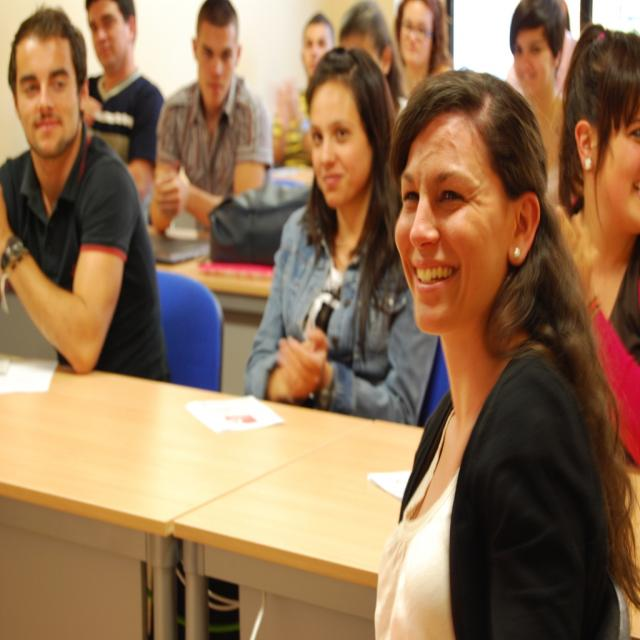chair: (156, 268, 224, 392)
desk: (4, 364, 406, 634)
person: (370, 66, 630, 637), (243, 47, 439, 424), (0, 6, 171, 381), (148, 0, 273, 236), (82, 0, 164, 203), (507, 0, 577, 211), (270, 14, 336, 168), (338, 2, 398, 110), (393, 0, 453, 106)
